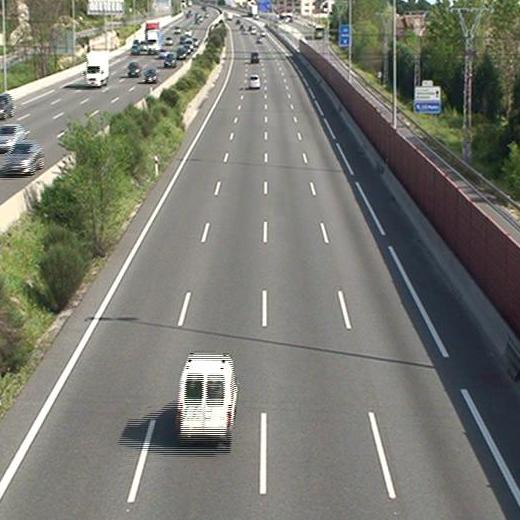car: (248, 74, 259, 89), (250, 51, 258, 61)
van: (176, 354, 237, 441)
